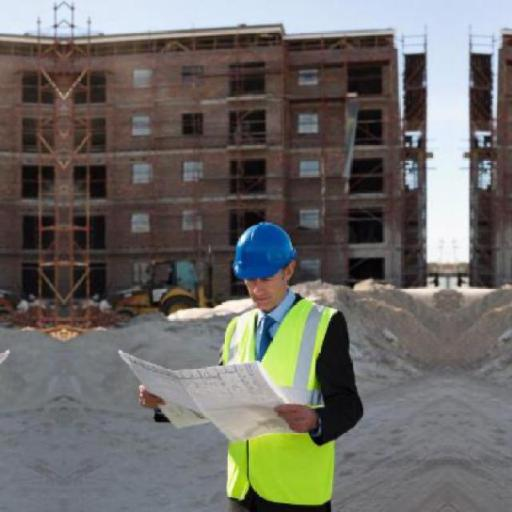helmet: (220, 215, 306, 288)
vest: (210, 295, 348, 512)
